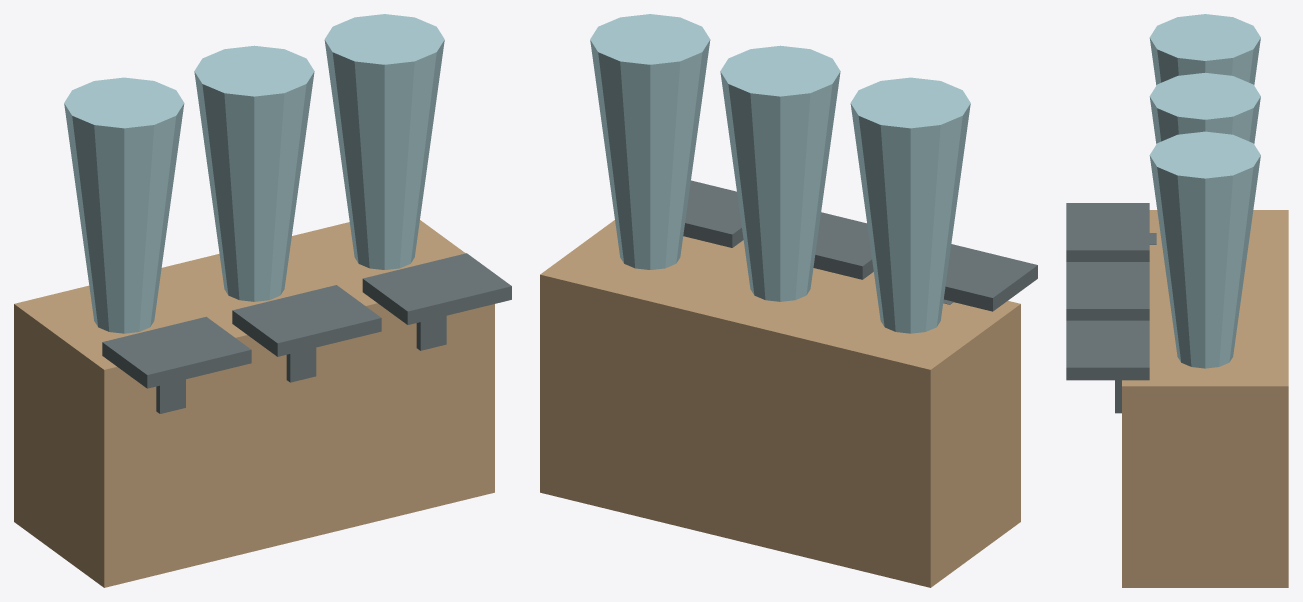
File: supermarket-operations-bulk-dispenser-bank-7cb77a0c__26758.glb
The picture shows the model from 3 angles, left to right: view 1: azimuth 30°, elevation 25°; view 2: azimuth 150°, elevation 25°; view 3: azimuth 270°, elevation 25°; orthographic projection. The views are drawn at different scales.
Visible parts, largest first — view 1: bulk-dispenser-bank; view 2: bulk-dispenser-bank; view 3: bulk-dispenser-bank.
Part boxes in pixels (x1=…): bulk-dispenser-bank: x1=14, y1=14, x2=511, y2=587; bulk-dispenser-bank: x1=540, y1=14, x2=1037, y2=587; bulk-dispenser-bank: x1=1066, y1=14, x2=1288, y2=587.
Size of the model in its own units: 1.5 by 1.6 by 0.7999.
